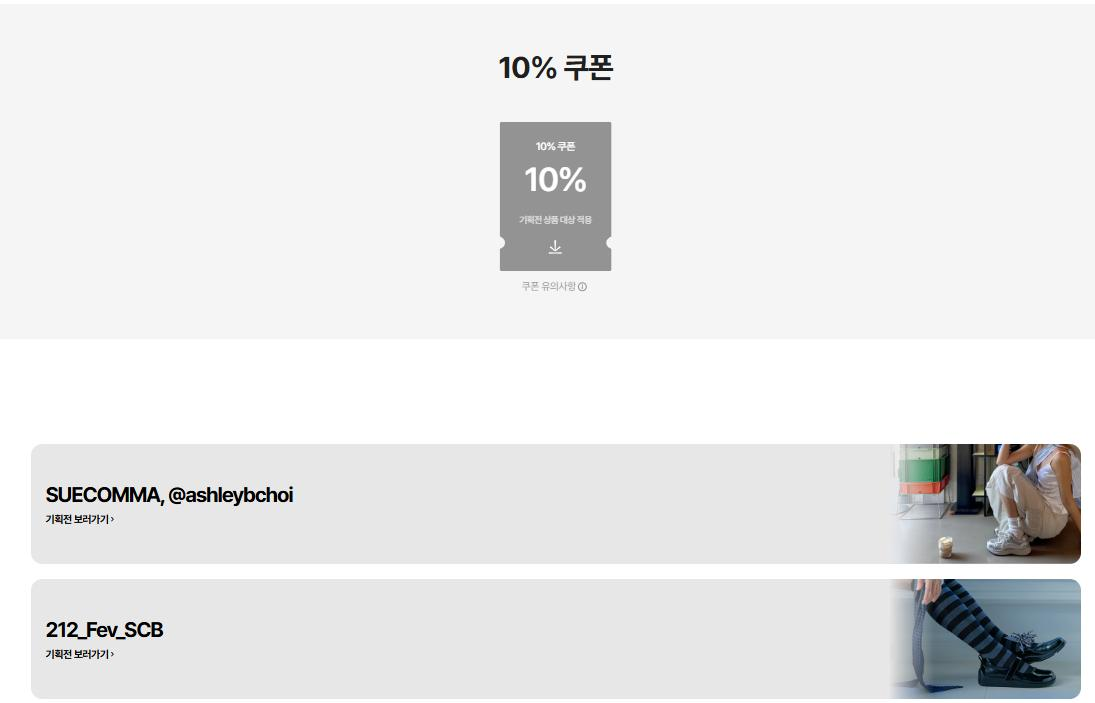button: (492, 110, 619, 276), (41, 477, 310, 541), (36, 609, 182, 673)
